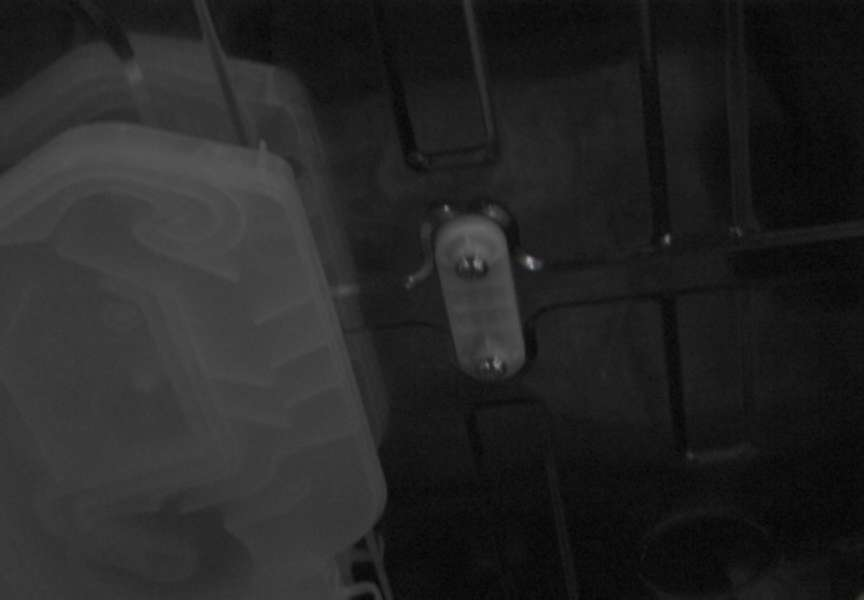screw: (454, 255, 489, 279), (476, 356, 507, 381)
